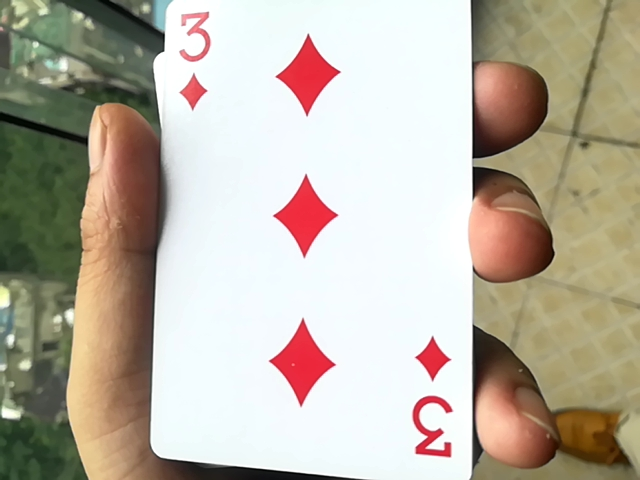fk 3: (137, 1, 487, 478)
